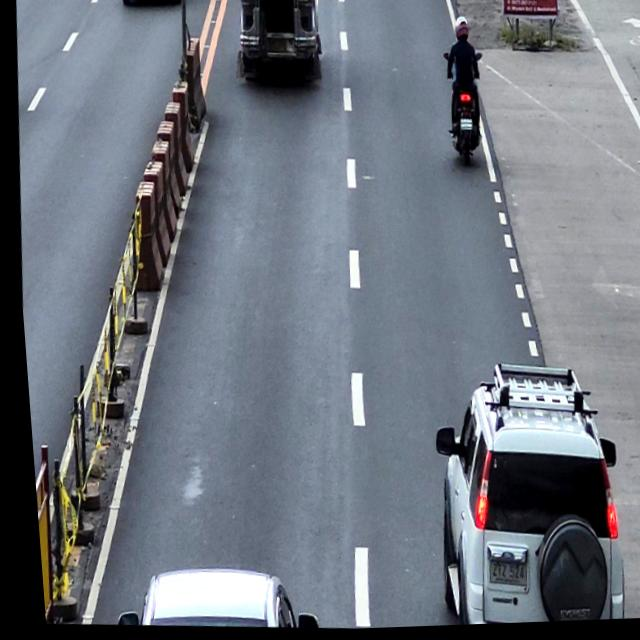Car: (414, 359, 628, 629), (104, 561, 312, 635)
Jeep: (232, 0, 326, 87)
License-Plate: (477, 557, 521, 596), (457, 122, 472, 136)
Motorcycle: (437, 53, 488, 171)
